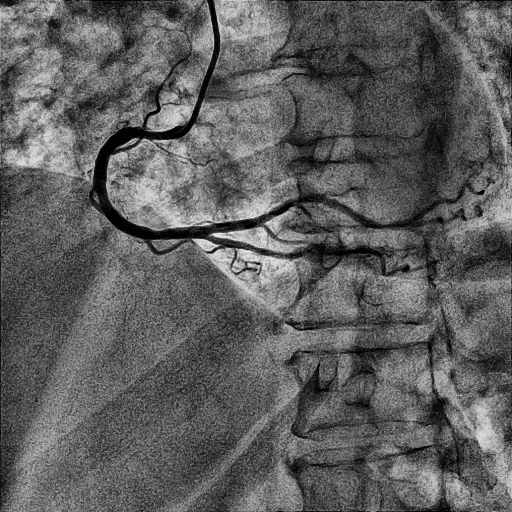pborca: (203, 194, 354, 235)
pda: (207, 236, 410, 276)
rca: (93, 128, 208, 240)
